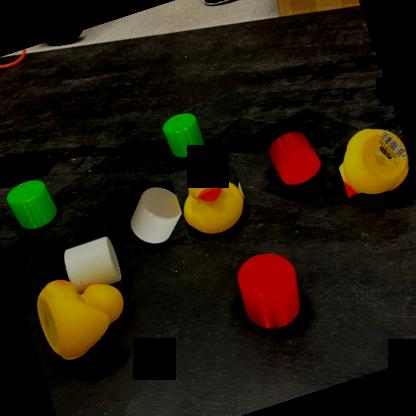duck: (27, 260, 138, 368), (329, 117, 416, 205), (170, 154, 253, 243)
green cylinder: (3, 174, 62, 236), (159, 108, 209, 164)
red cylinder: (229, 244, 313, 338), (263, 124, 326, 191)
white cylinder: (120, 178, 193, 252), (59, 233, 126, 298)
